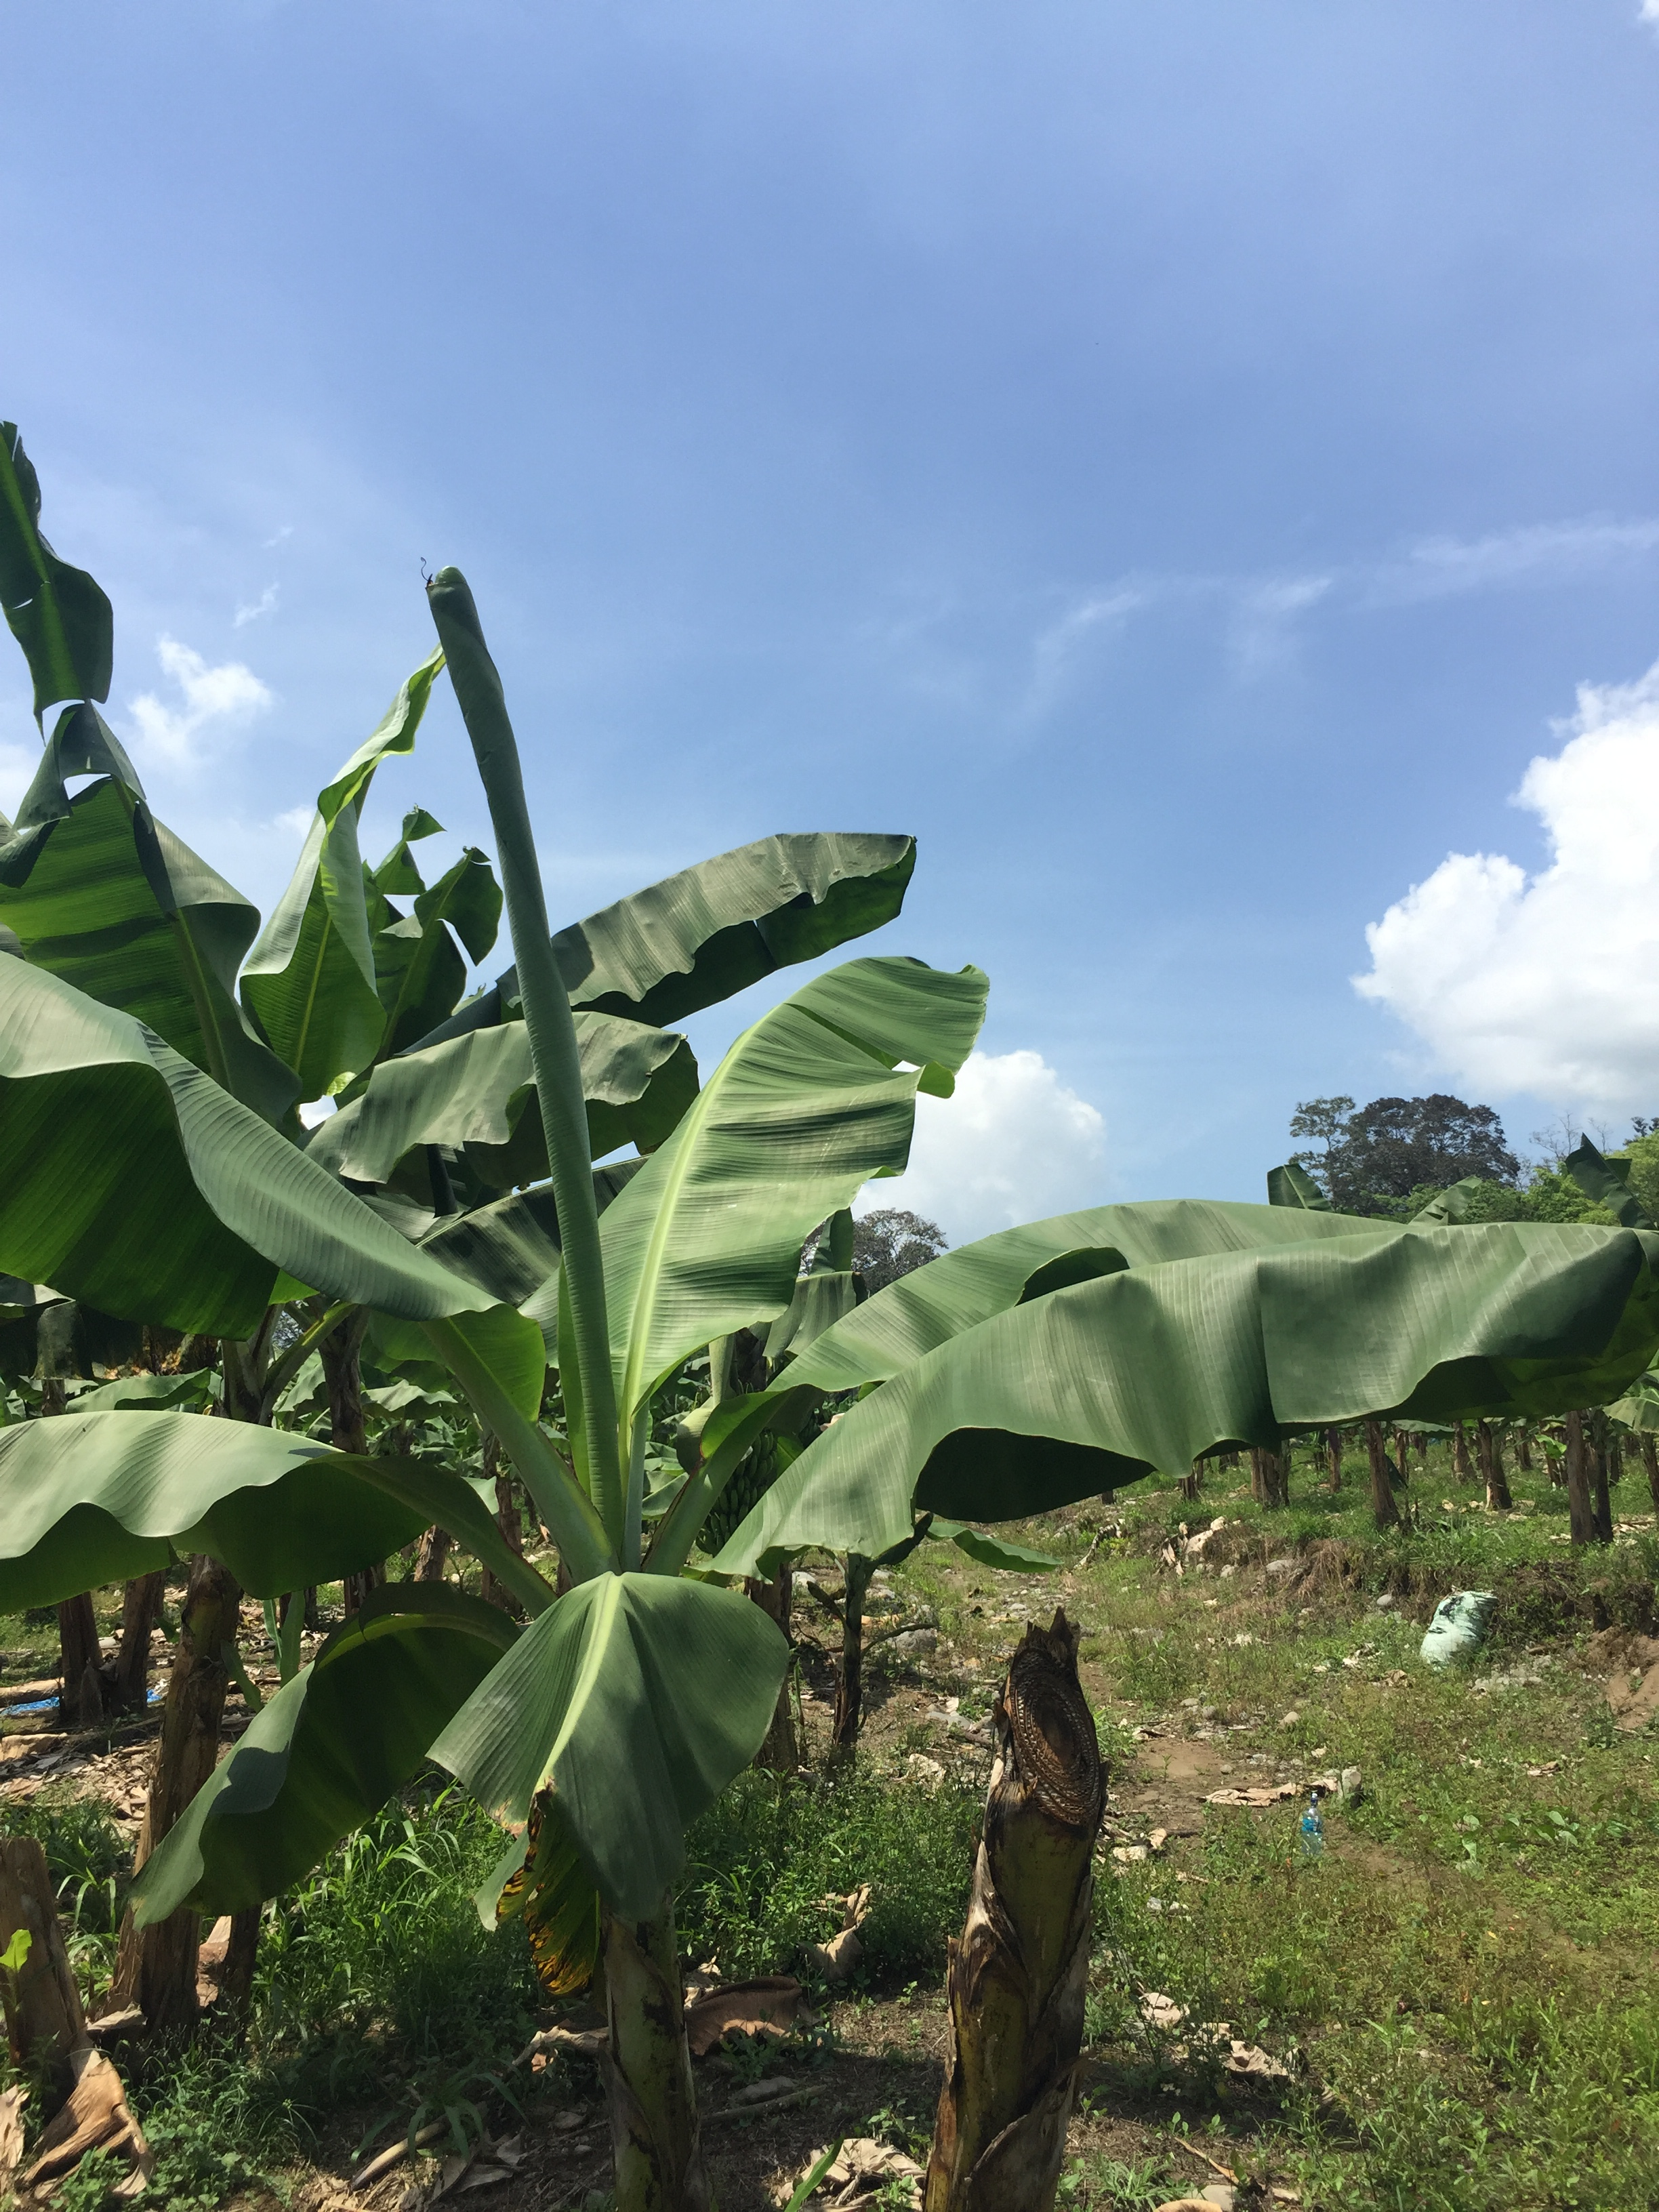candleleafs: (422, 554, 610, 1552)
